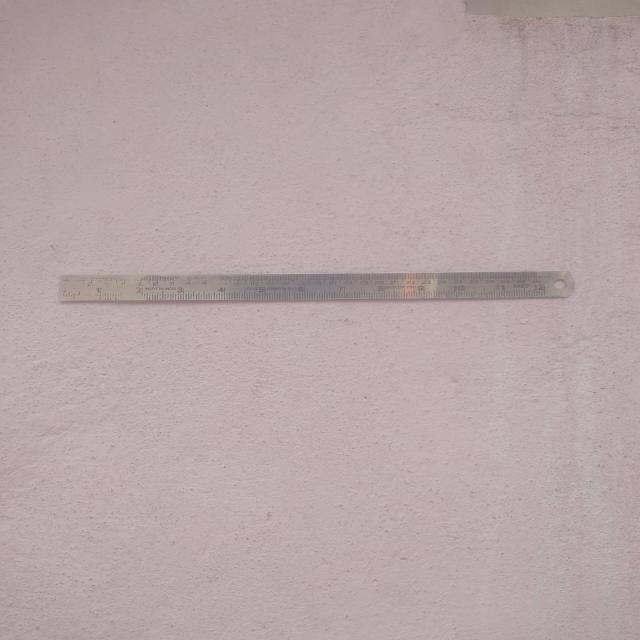scale: (58, 273, 580, 302)
